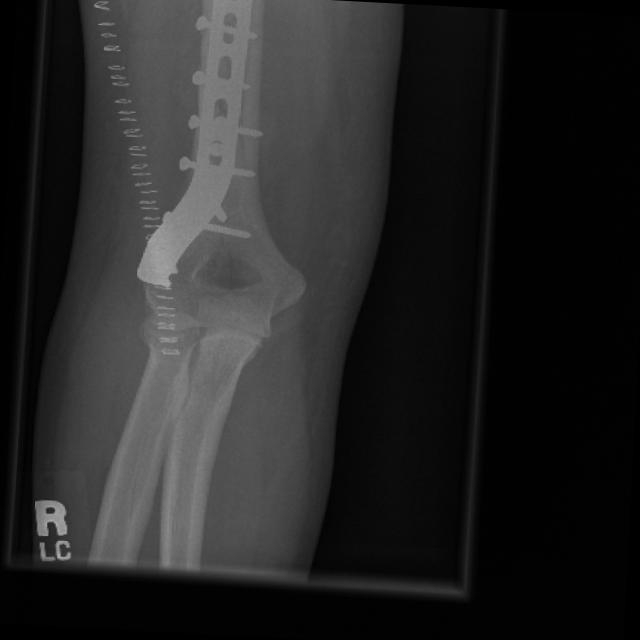elbow positive: (230, 233, 323, 331)
